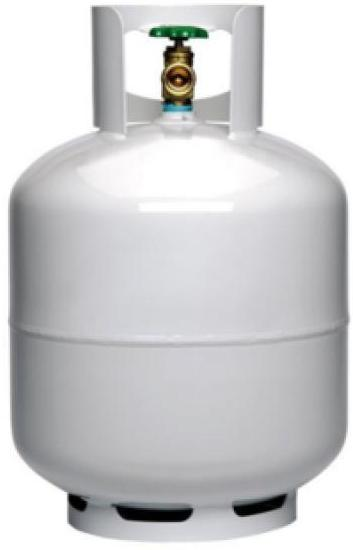cylinder: (1, 0, 353, 550)
